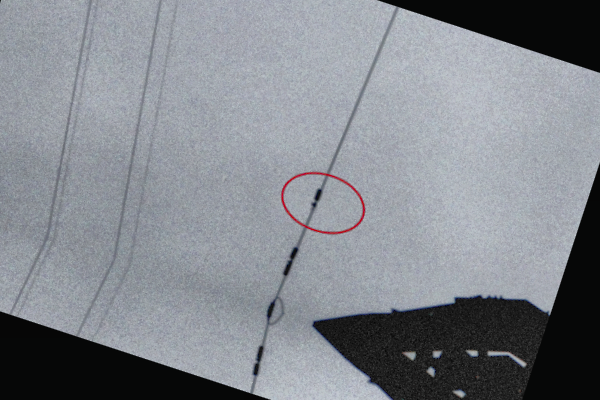damper: (282, 245, 299, 277), (251, 344, 265, 378)
damper_defect: (307, 187, 322, 214)
